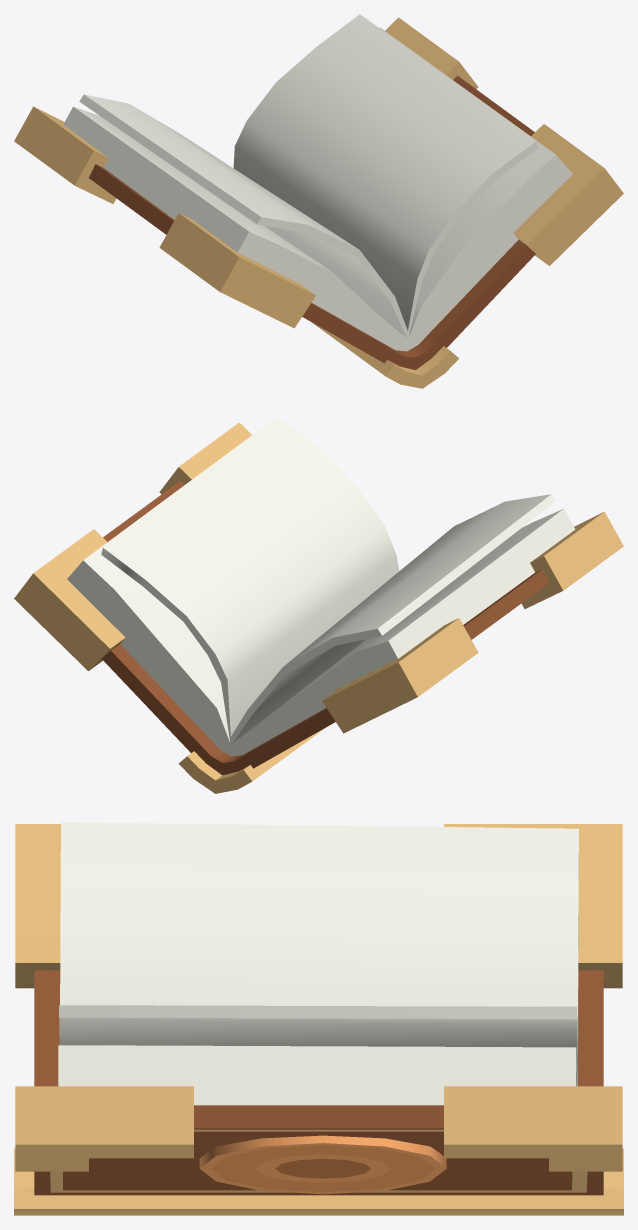
File: Acc_RHand_18.fbx
3 renders of one model, top to bottom at view 1: azimuth 30°, elevation 25°; view 2: azimuth 150°, elevation 25°; view 3: azimuth 270°, elevation 25°, orthographic. The views are drawn at different scales.
Visible parts, largest first — view 1: Acc_RHand_18; view 2: Acc_RHand_18; view 3: Acc_RHand_18.
Boxes of the visible parts, bbox=[...] form: Acc_RHand_18: bbox=[14, 14, 623, 388]; Acc_RHand_18: bbox=[14, 417, 623, 793]; Acc_RHand_18: bbox=[14, 822, 623, 1215].
Size of the model in its own units: 28.7 by 13.92 by 25.48.
